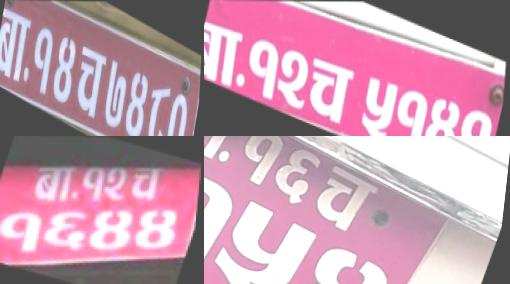0: (166, 86, 195, 136)
1: (204, 160, 248, 281), (227, 136, 293, 197), (240, 32, 288, 104), (0, 202, 52, 259), (389, 81, 435, 136), (27, 20, 59, 96), (75, 160, 112, 206), (454, 102, 501, 136)
2: (272, 42, 318, 116), (100, 163, 134, 204)
4: (286, 228, 406, 284), (84, 201, 141, 258), (132, 199, 184, 257), (50, 33, 81, 108), (123, 64, 154, 136), (422, 90, 466, 136)
5: (207, 191, 330, 284), (354, 68, 403, 136)
6: (266, 136, 333, 212), (43, 202, 97, 258)
7: (101, 56, 133, 136)
8: (143, 76, 175, 136)
ba: (204, 14, 248, 92), (0, 3, 34, 86), (28, 154, 83, 205)
cha: (309, 155, 391, 239), (302, 48, 361, 131), (70, 42, 110, 125), (125, 157, 169, 205)
